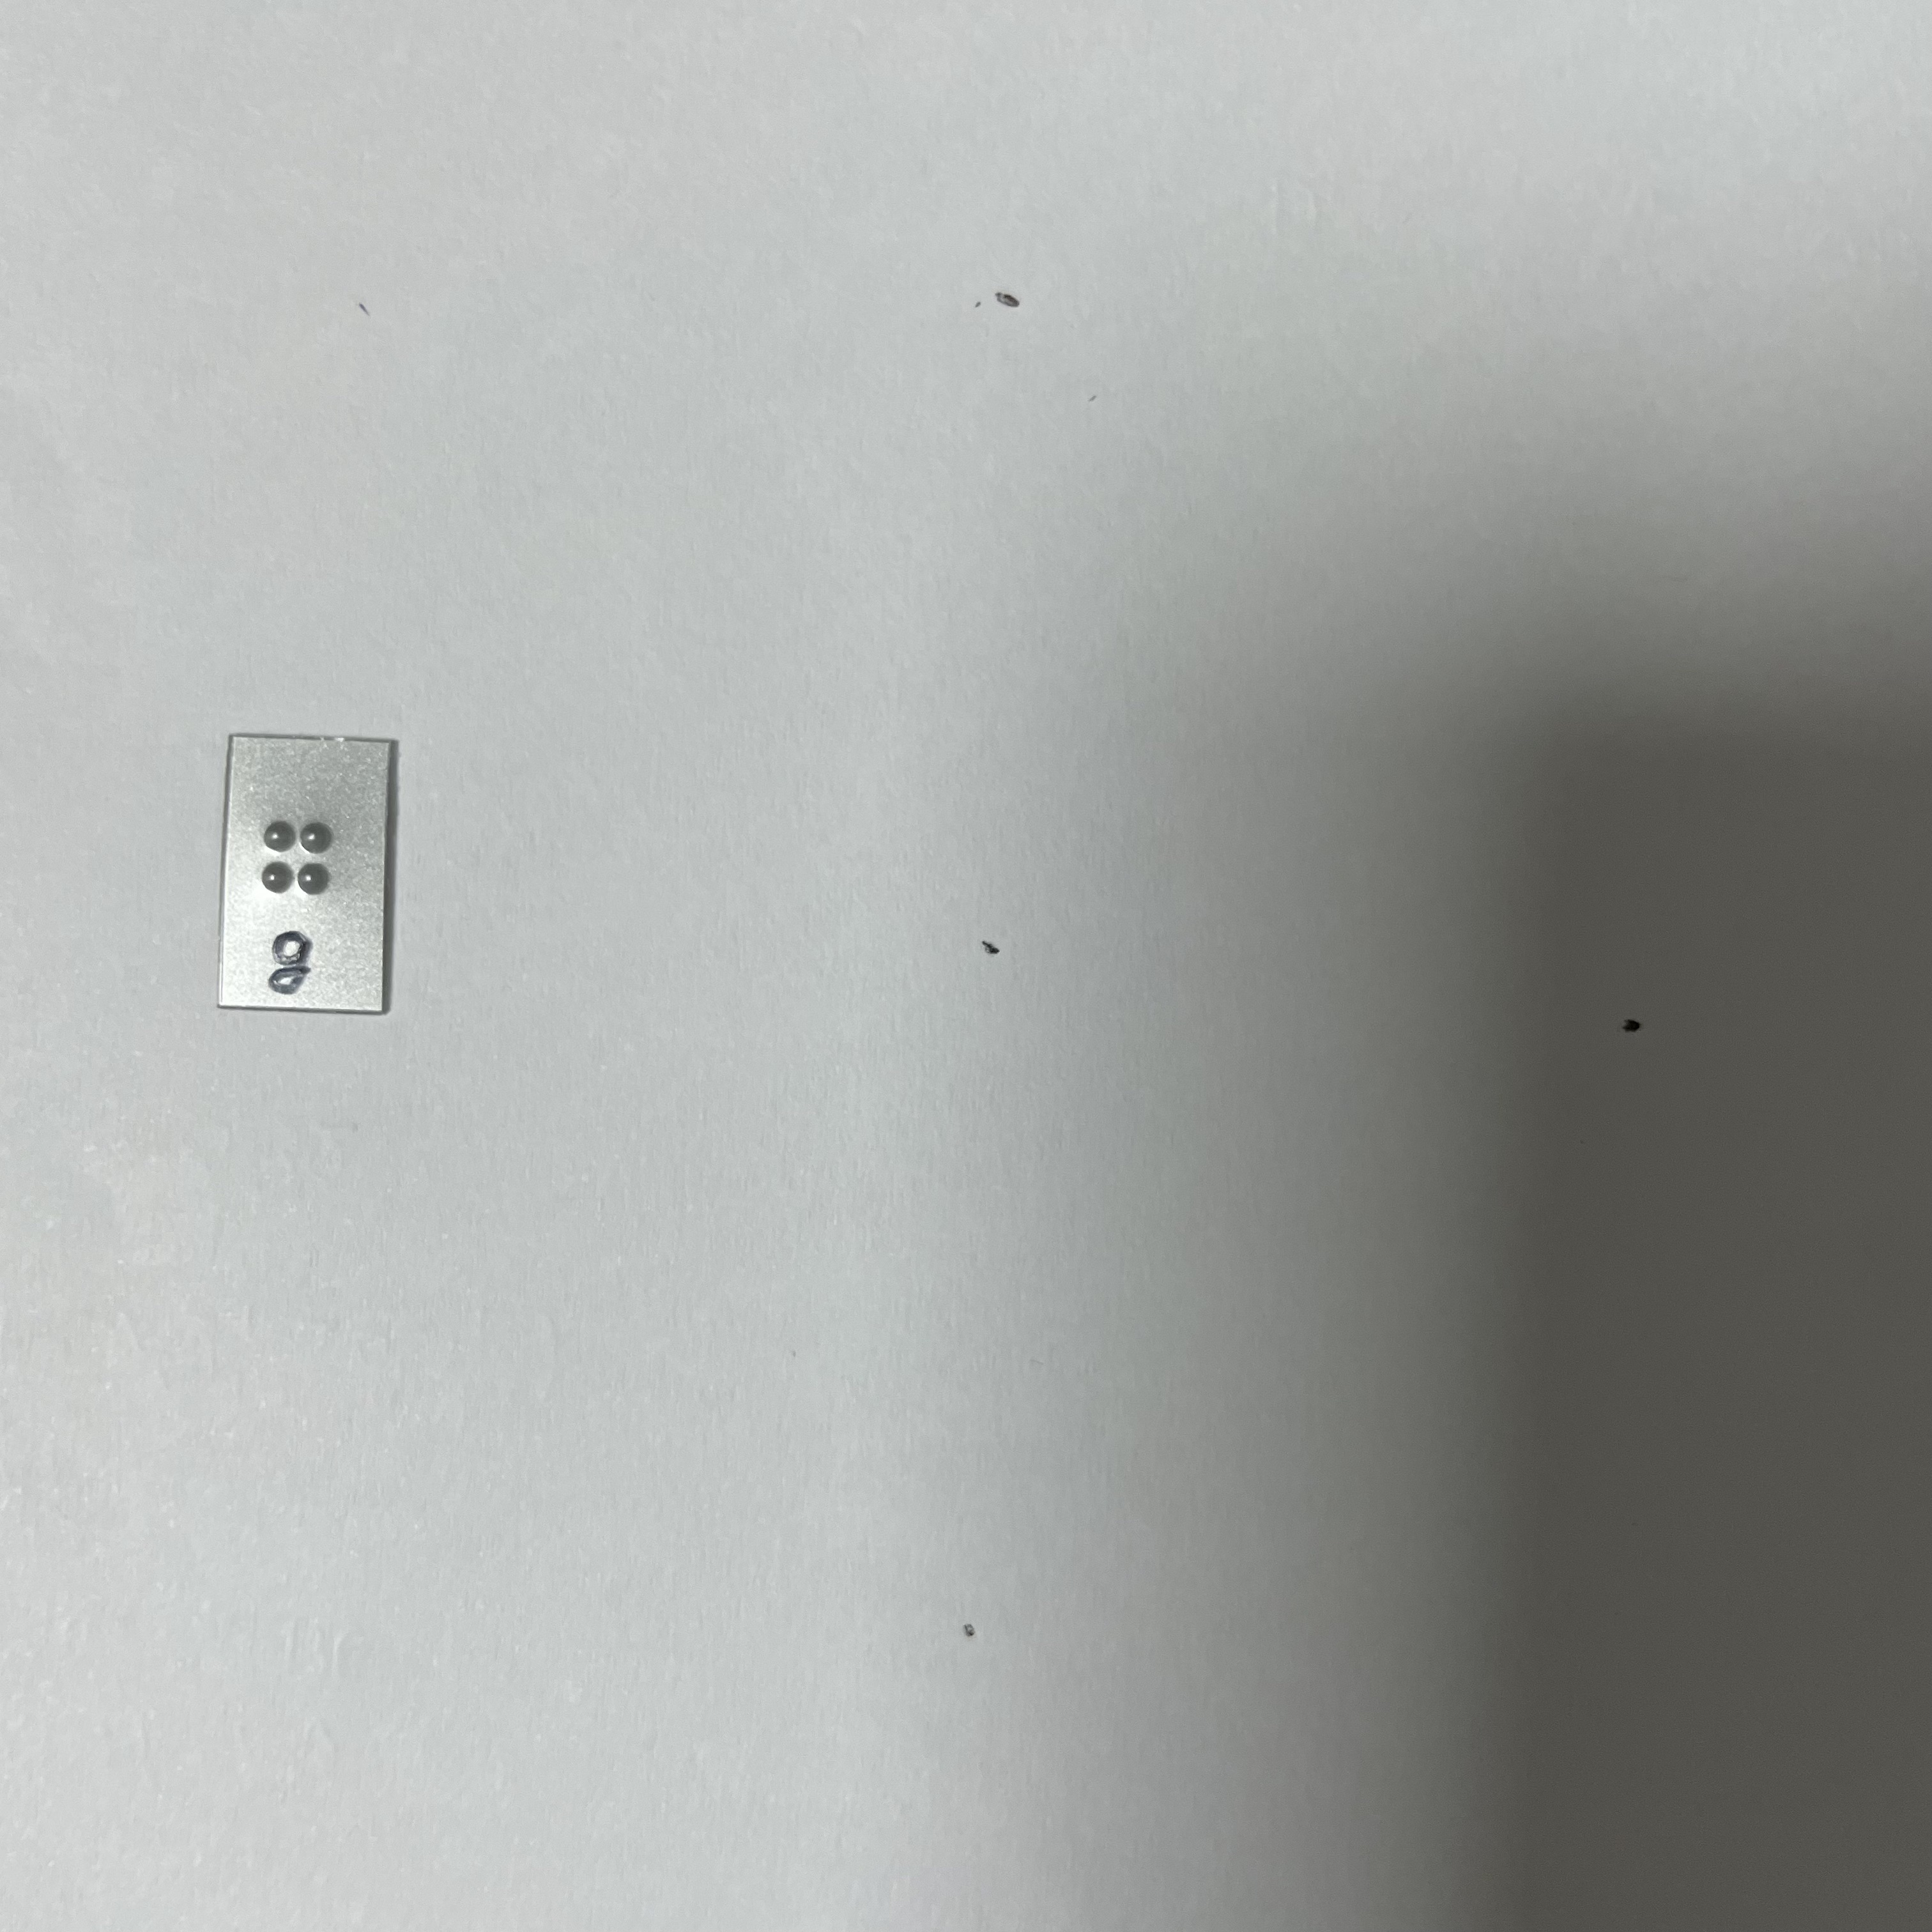g: (244, 800, 353, 935)
